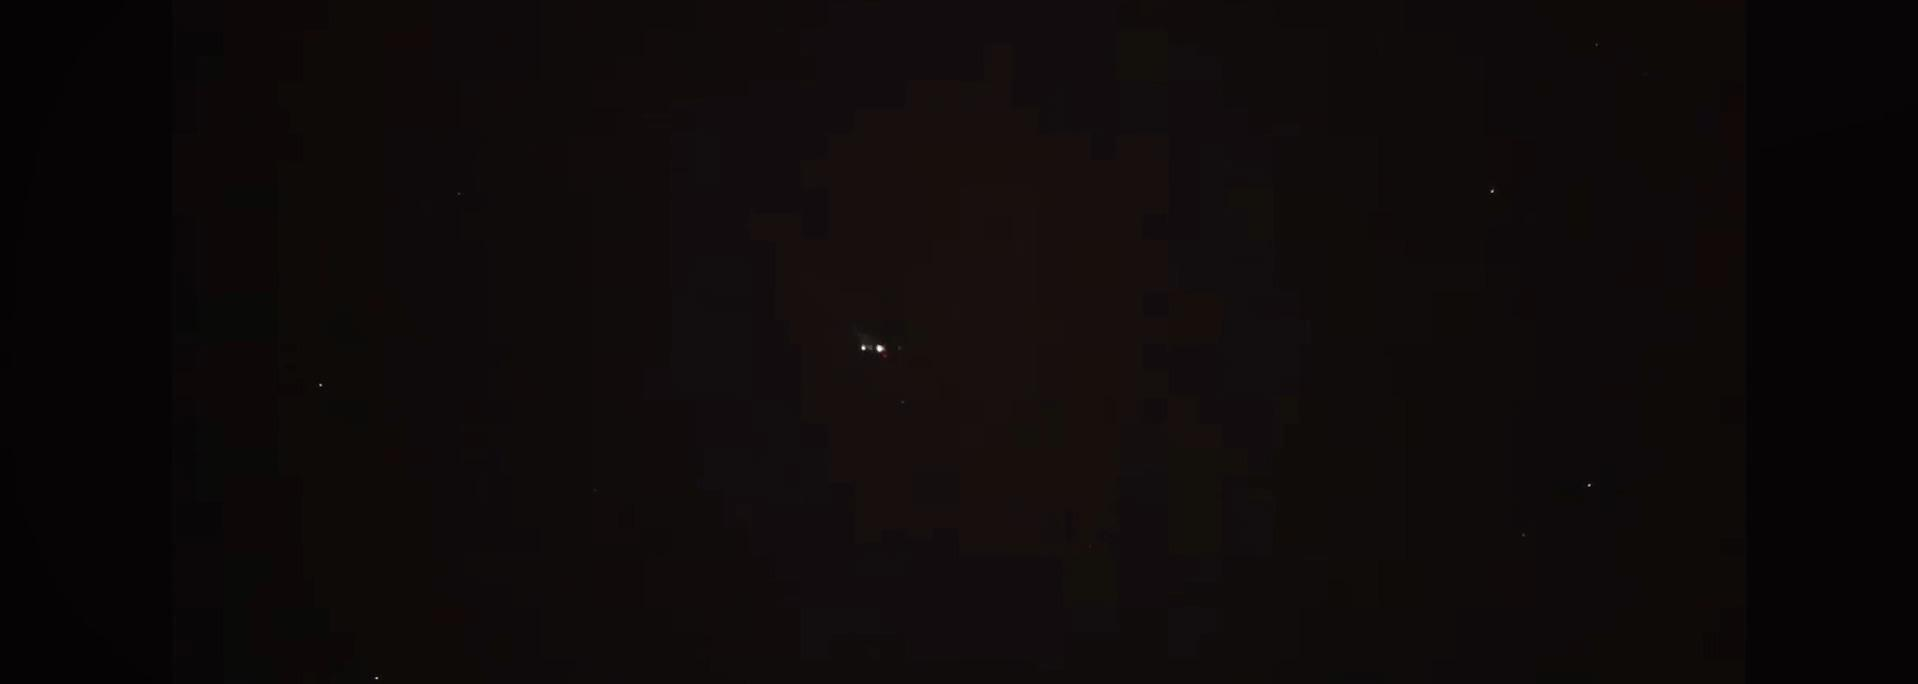Plane: (835, 327, 911, 370)
